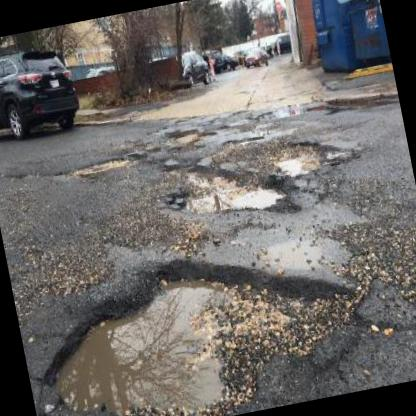pothole: (22, 222, 377, 416), (156, 144, 299, 240), (264, 130, 344, 182), (60, 152, 128, 178), (171, 125, 202, 146)
